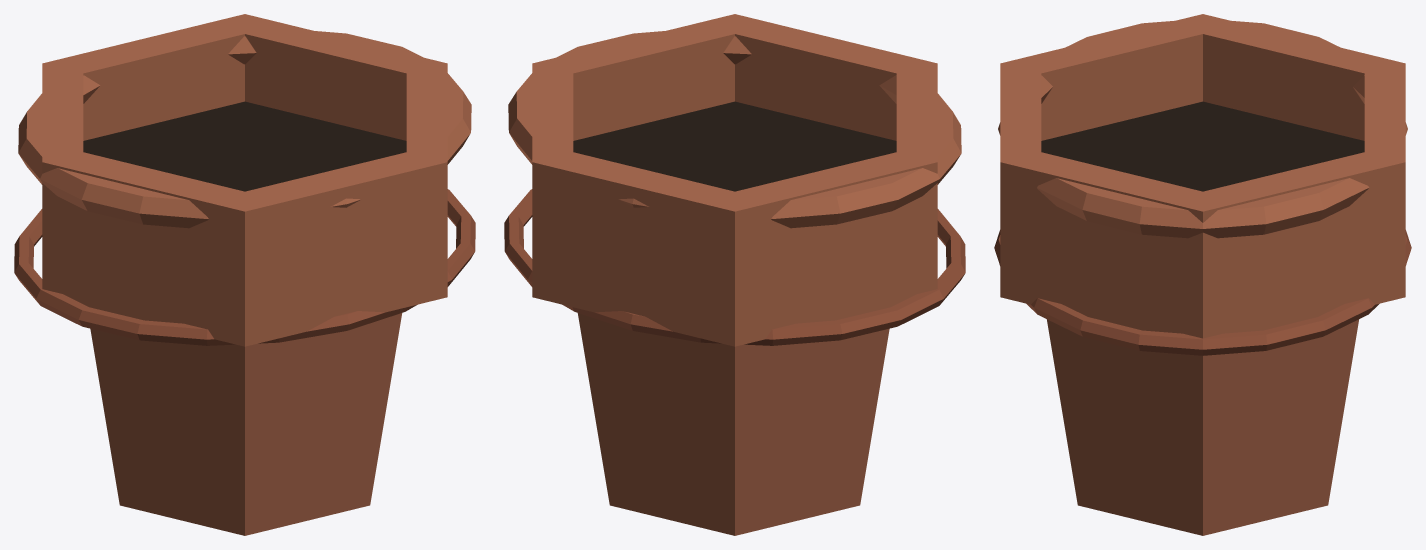
File: pot_small.glb
The picture shows the model from 3 angles, left to right: view 1: azimuth 30°, elevation 25°; view 2: azimuth 150°, elevation 25°; view 3: azimuth 270°, elevation 25°; orthographic projection.
Parts seen in each view (by area): view 1: pot_small; view 2: pot_small; view 3: pot_small.
Boxes of the visible parts, box(x1,y1,x2,y2) form: pot_small: box(14, 14, 475, 535); pot_small: box(504, 14, 965, 535); pot_small: box(994, 14, 1411, 535).
Bounding box in the file's own units: 0.3234 × 0.268 × 0.2801.
